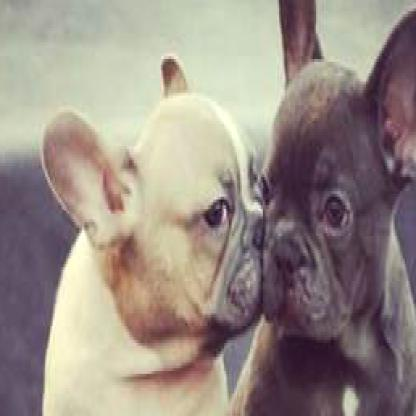dog: (32, 51, 258, 413), (258, 0, 415, 414)
